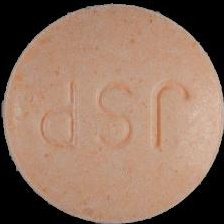51655-089: (0, 0, 224, 224)
